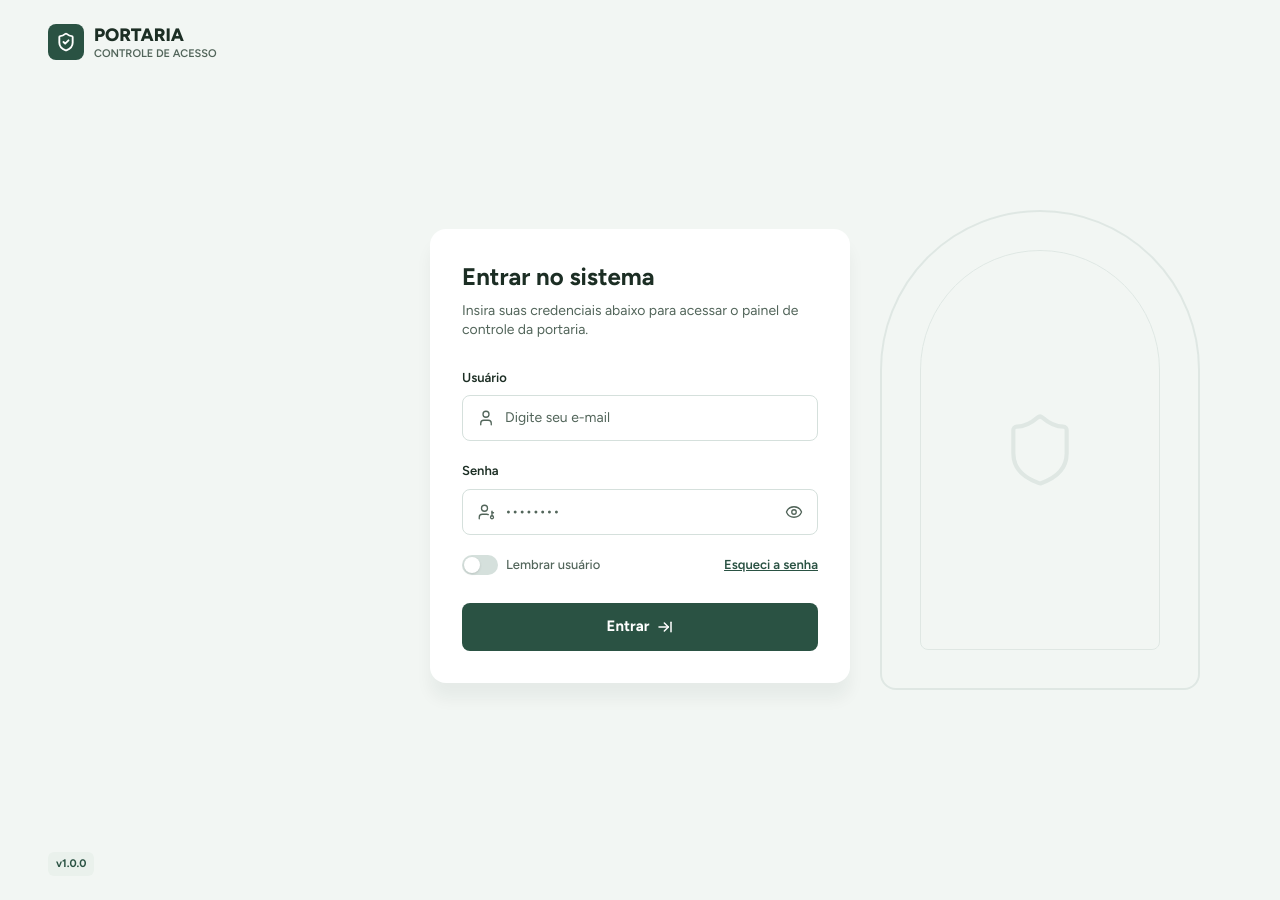
Test: LoginPage › mostra a mensagem de erro vinda do backend (ex.: rate limit)
This screenshot has width=1280, height=900.
Type "admin@empresa.com" into the field labelled "Usuário" at [654, 418], box [505,408,803,428]
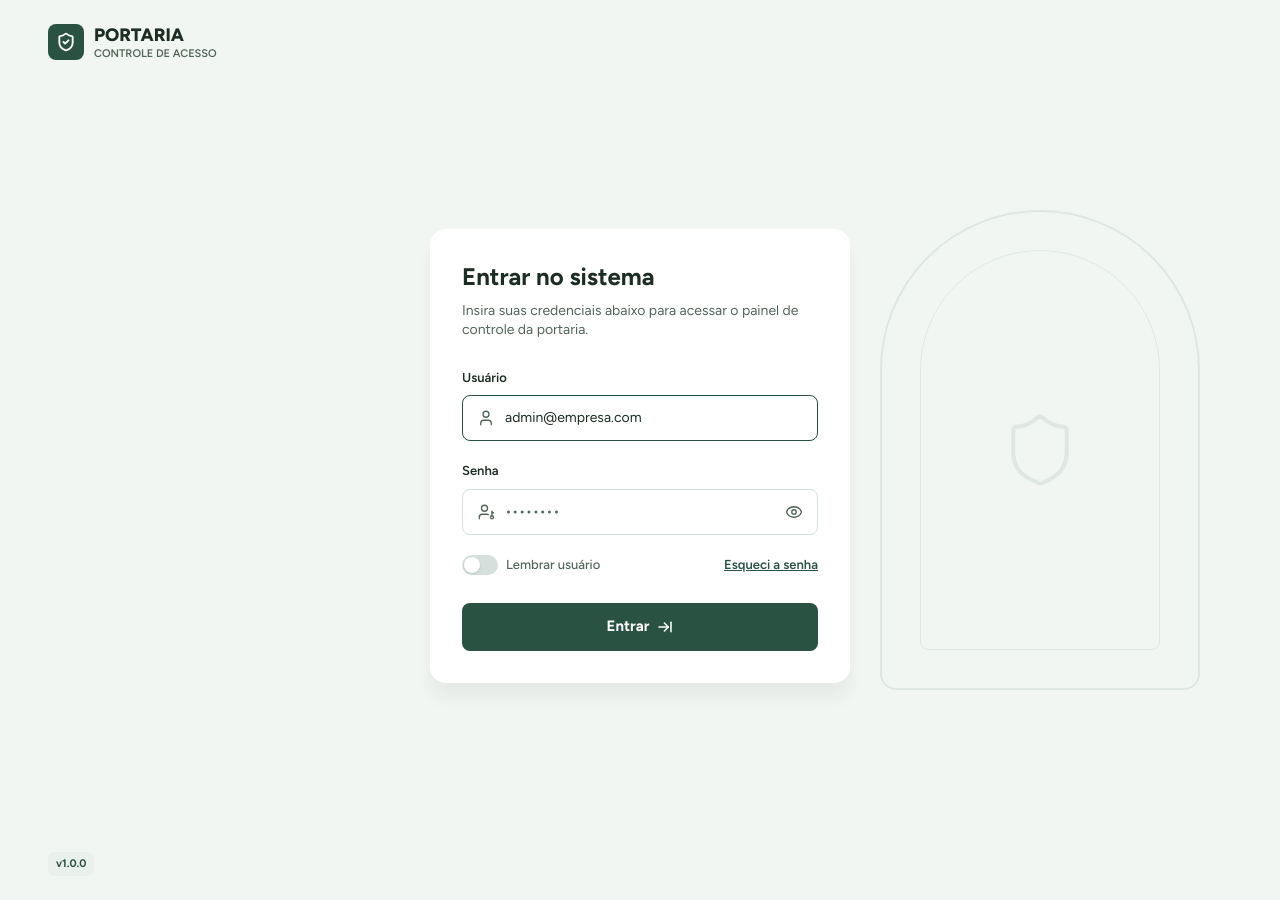
Type "errada" into the password field labelled "Senha" at [640, 512], box [505,502,775,522]
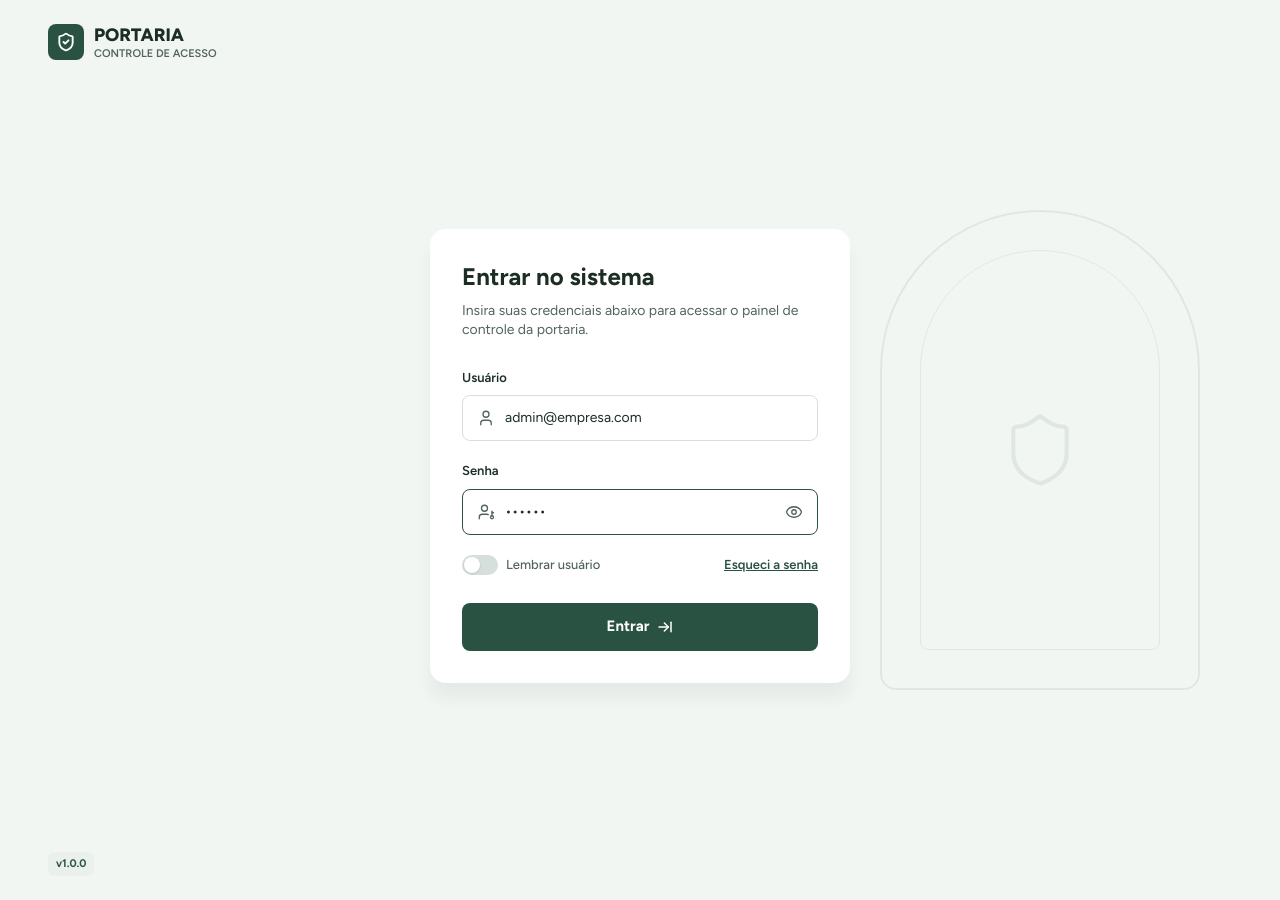
Click the button "Entrar" at [640, 627], box [462,603,818,651]
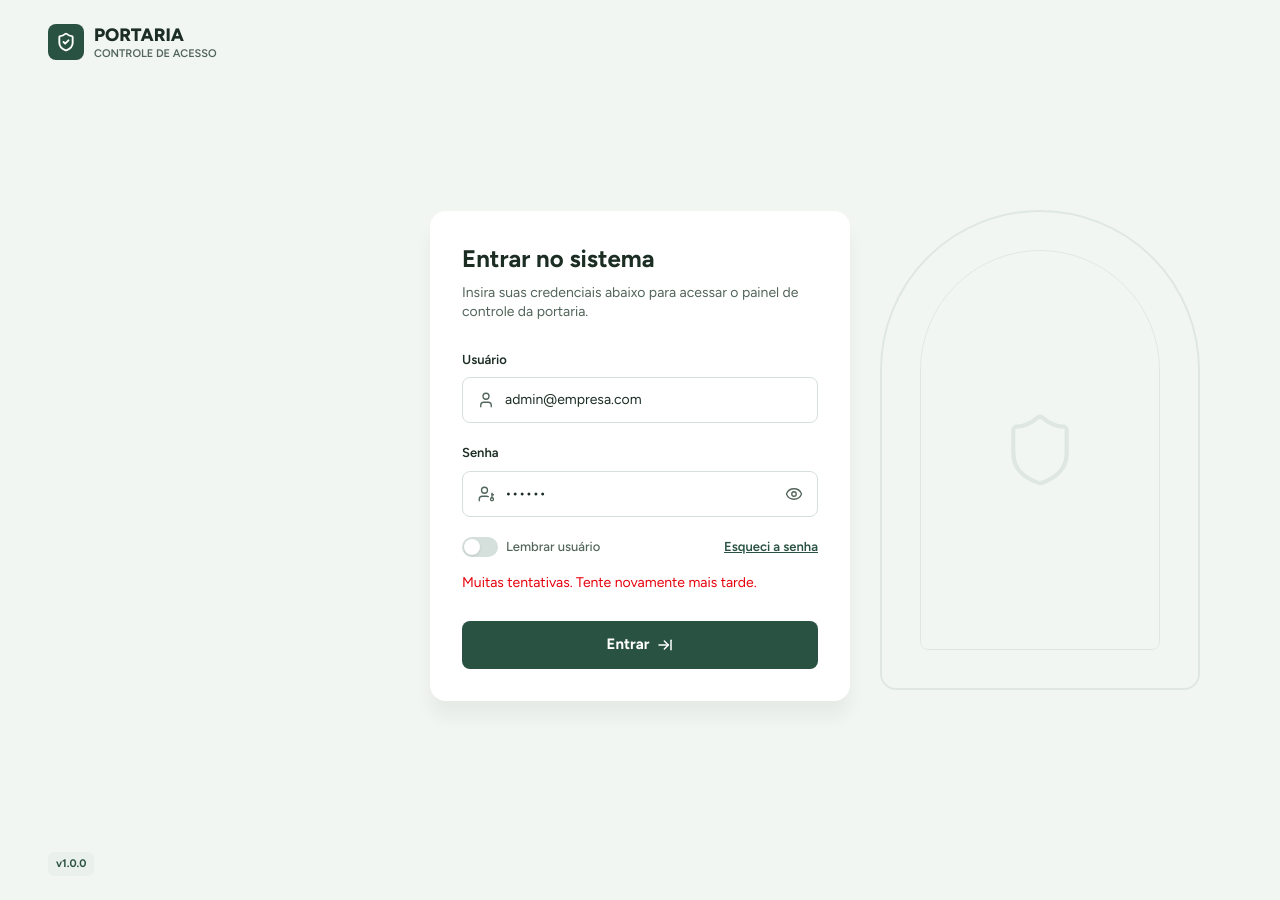
Result: the text "Muitas tentativas. Tente novamente mais tarde." is shown at [462,574,757,591]
